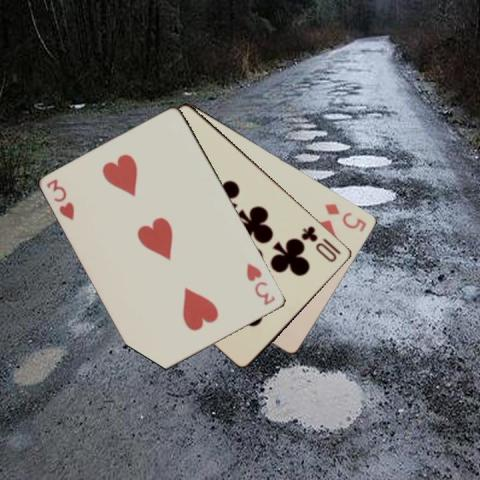10c: (298, 223, 343, 264)
3h: (244, 260, 278, 307), (44, 176, 77, 222)
5d: (322, 200, 368, 233)
